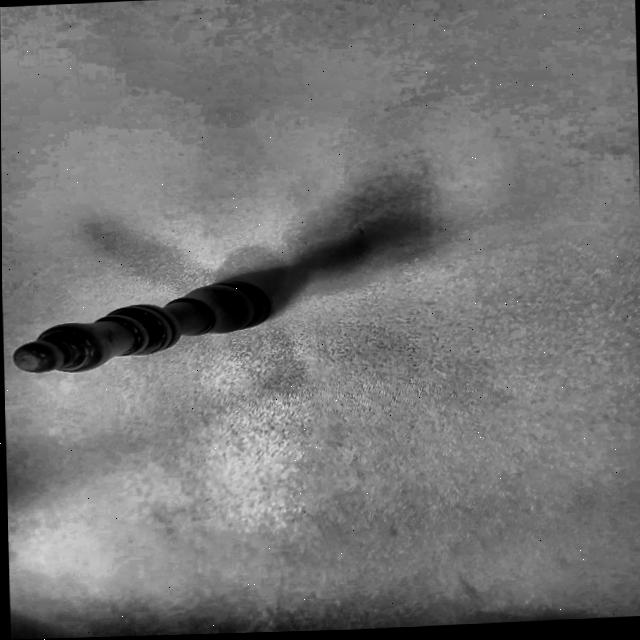black-queen: (4, 266, 290, 384)
